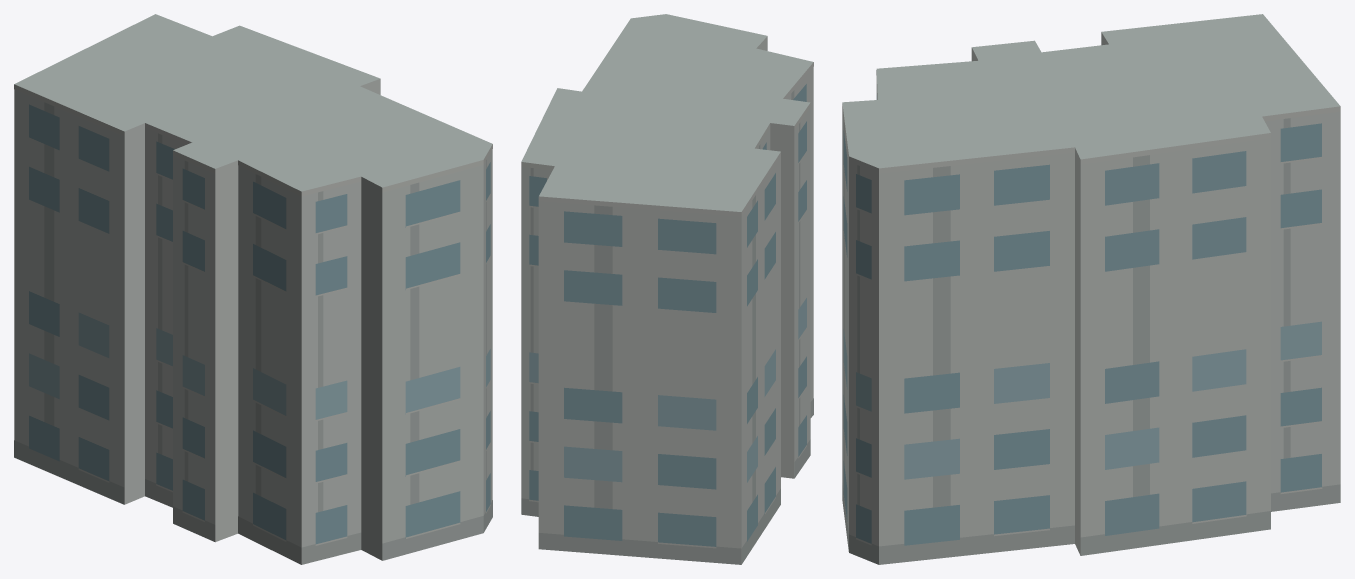
Rendered from survey-upis-32811981.glb.
3 views of the same model, side by side, from view 1: azimuth 30°, elevation 25°; view 2: azimuth 150°, elevation 25°; view 3: azimuth 270°, elevation 25° (orthographic). The views are drawn at different scales.
Parts seen in each view (by area): view 1: survey-upis-32811981.tmp; view 2: survey-upis-32811981.tmp; view 3: survey-upis-32811981.tmp.
Boxes of the visible parts, x1,y1,x2,y2 form: survey-upis-32811981.tmp: [14, 14, 492, 564]; survey-upis-32811981.tmp: [521, 14, 813, 564]; survey-upis-32811981.tmp: [842, 14, 1340, 564].
Size of the model in its own units: 15.29 by 18.3 by 20.86.
